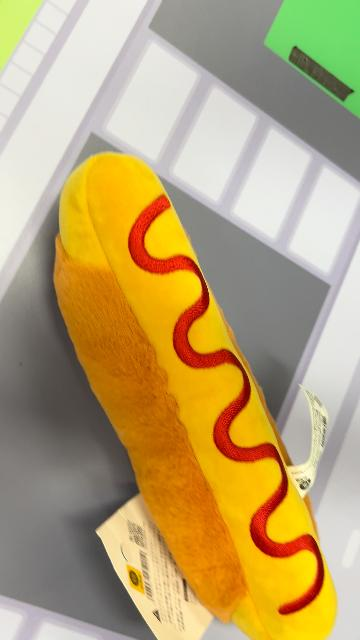hotdog: (52, 150, 338, 638)
